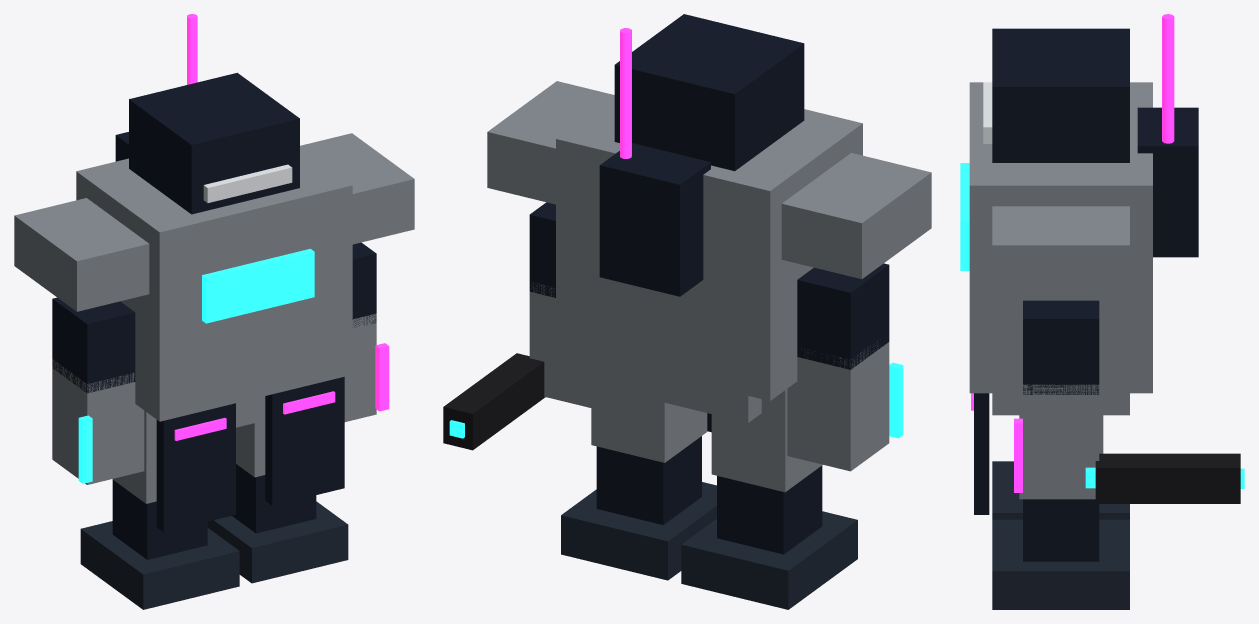
The model's file is boss_captain.glb.
3 views of the same model, side by side, from view 1: azimuth 30°, elevation 25°; view 2: azimuth 150°, elevation 25°; view 3: azimuth 270°, elevation 25° (orthographic). The views are drawn at different scales.
Bounding box in the file's own units: 2.8 × 3.99 × 1.86.
